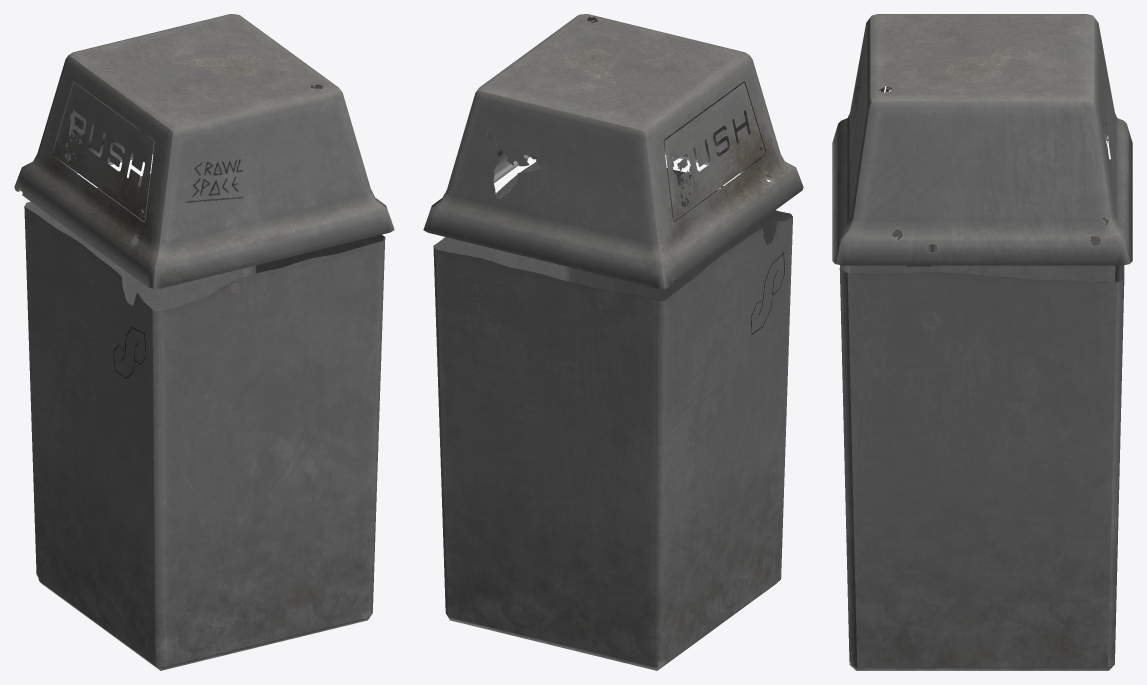
File: SM_Trashcan_03a.fbx
3 renders of one model, left to right at view 1: azimuth 30°, elevation 25°; view 2: azimuth 150°, elevation 25°; view 3: azimuth 270°, elevation 25°, orthographic. The views are drawn at different scales.
Visible parts, largest first — view 1: SM_Trashcan_03a_LOD0; view 2: SM_Trashcan_03a_LOD0; view 3: SM_Trashcan_03a_LOD0.
Boxes of the visible parts, x1,y1,x2,y2 form: SM_Trashcan_03a_LOD0: (14,14,394,670); SM_Trashcan_03a_LOD0: (423,14,803,670); SM_Trashcan_03a_LOD0: (832,14,1132,670).
Bounding box in the file's own units: 51.73 × 51.73 × 107.
